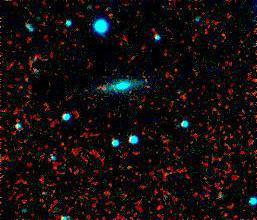star: (116, 78, 146, 108)
